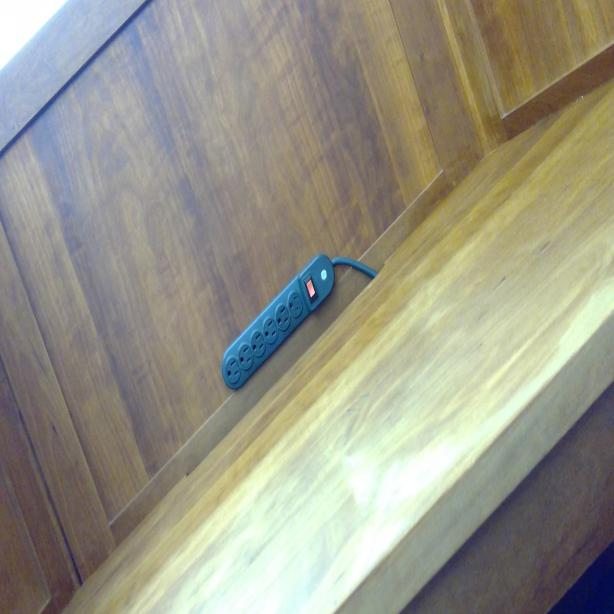typeb: (238, 342, 254, 371), (274, 304, 290, 332), (261, 317, 278, 343), (223, 358, 240, 383), (289, 292, 304, 318), (252, 331, 265, 355)
